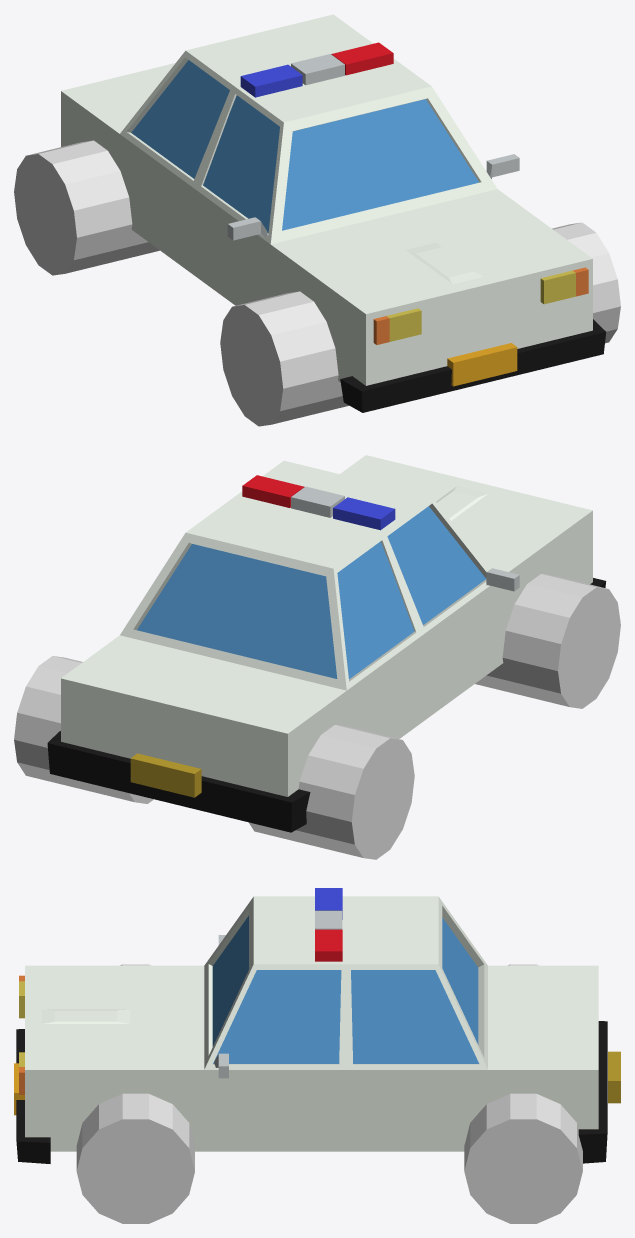
The model's file is police car.fbx.
The picture shows the model from 3 angles, top to bottom: view 1: azimuth 30°, elevation 25°; view 2: azimuth 150°, elevation 25°; view 3: azimuth 270°, elevation 25°; orthographic projection. The views are drawn at different scales.
Parts seen in each view (by area): view 1: Cube, Cylinder, Cylinder.002, Cube.001, Cube.005, Cube.003, Cube.002, Cube.007, Cube.008; view 2: Cube, Cylinder.002, Cylinder, Cube.006, Cube.003, Cube.007, Cube.008, Cube.002; view 3: Cube, Cylinder, Cylinder.002, Cube.007, Cube.006, Cube.003, Cube.008, Cube.001.
Part boxes in pixels (x1=…): Cube: x1=61, y1=14, x2=605, y2=412; Cylinder: x1=220, y1=222, x2=620, y2=426; Cylinder.002: x1=14, y1=140, x2=159, y2=275; Cube.001: x1=373, y1=267, x2=588, y2=344; Cube.005: x1=447, y1=343, x2=517, y2=386; Cube.003: x1=240, y1=64, x2=302, y2=97; Cube.002: x1=227, y1=154, x2=519, y2=240; Cube.007: x1=331, y1=42, x2=393, y2=75; Cube.008: x1=291, y1=54, x2=344, y2=85; Cube: x1=47, y1=455, x2=606, y2=832; Cylinder.002: x1=14, y1=656, x2=414, y2=859; Cylinder: x1=475, y1=574, x2=620, y2=708; Cube.006: x1=130, y1=753, x2=201, y2=797; Cube.003: x1=333, y1=497, x2=395, y2=530; Cube.007: x1=242, y1=475, x2=304, y2=507; Cube.008: x1=291, y1=486, x2=344, y2=517; Cube.002: x1=486, y1=568, x2=519, y2=591; Cube: x1=16, y1=896, x2=607, y2=1163; Cylinder: x1=76, y1=964, x2=194, y2=1223; Cylinder.002: x1=464, y1=964, x2=582, y2=1223; Cube.007: x1=315, y1=929, x2=342, y2=961; Cube.006: x1=608, y1=1051, x2=620, y2=1103; Cube.003: x1=315, y1=888, x2=342, y2=919; Cube.008: x1=315, y1=910, x2=342, y2=929; Cube.001: x1=19, y1=975, x2=24, y2=1094.
Bounding box in the file's own units: 489 × 334 × 810.
